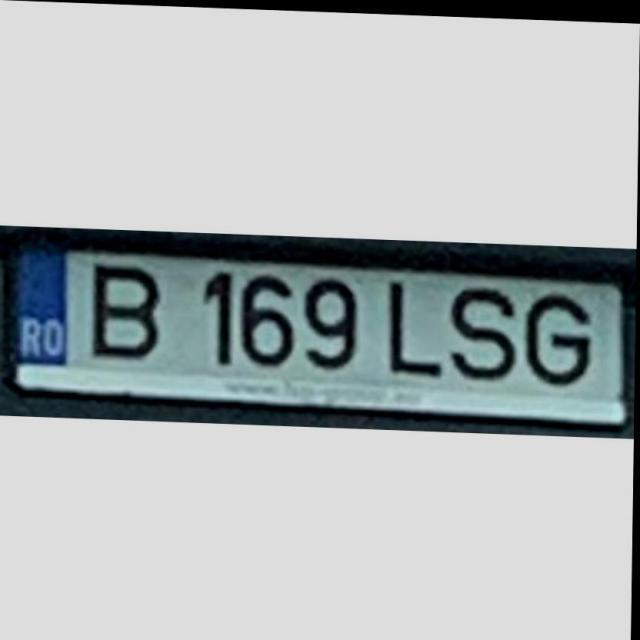license-plates: (0, 228, 637, 434)
